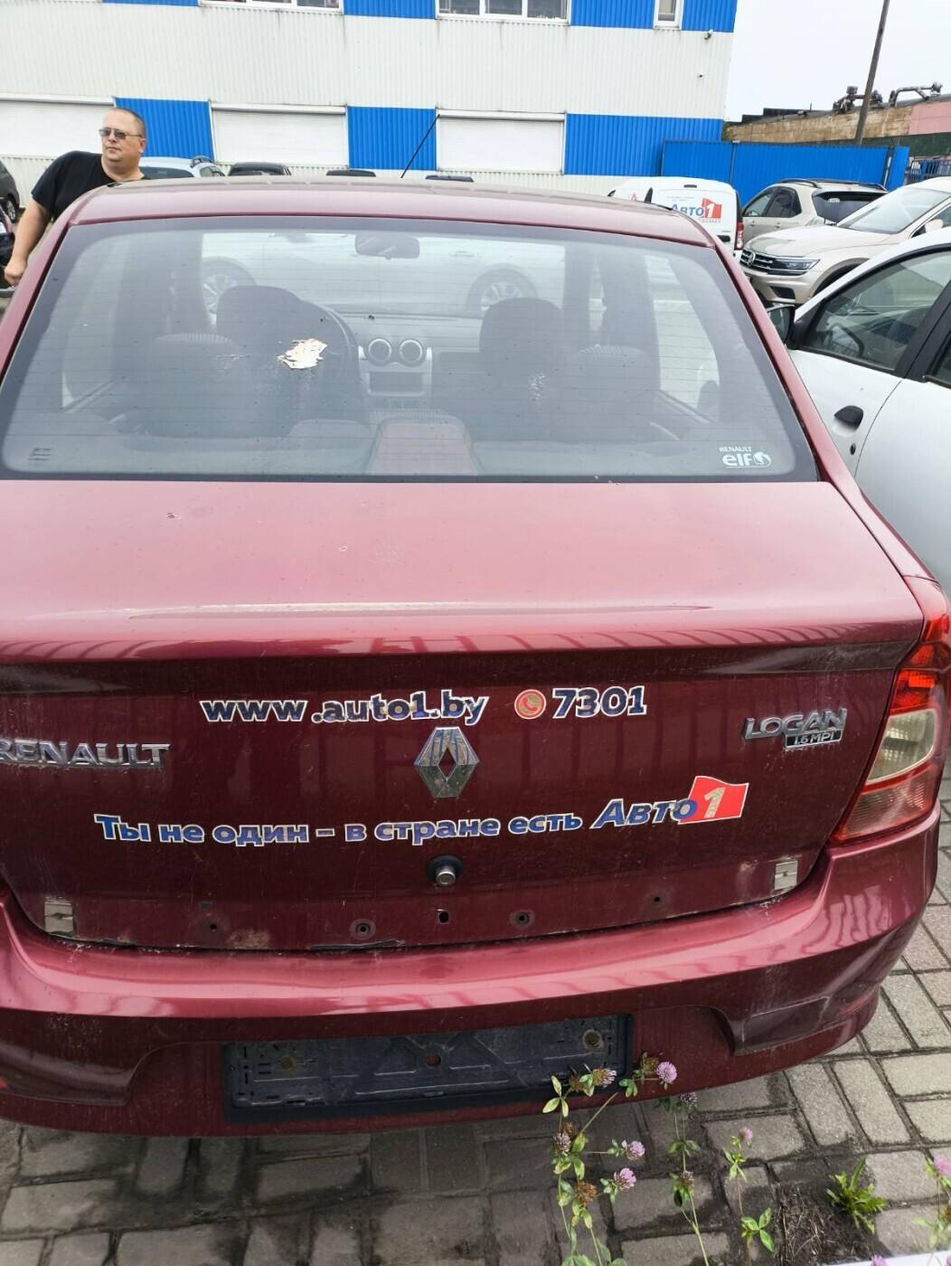Logan_2008-2015: (0, 177, 951, 1134)
